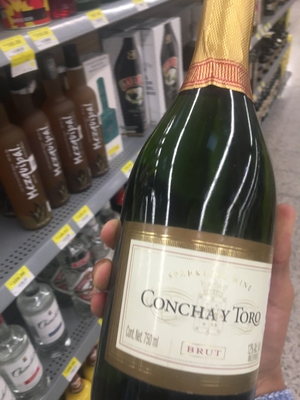brut: (90, 26, 294, 400)
